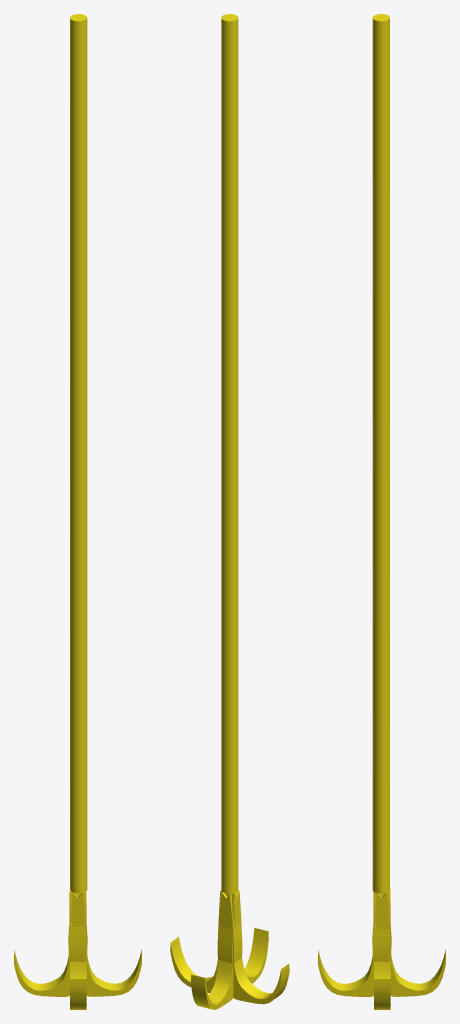
Rendered from hook.FBX.
The picture shows the model from 3 angles, left to right: view 1: azimuth 90°, elevation 25°; view 2: azimuth 150°, elevation 25°; view 3: azimuth 270°, elevation 25°; orthographic projection.
Visible parts, largest first — view 1: hook; view 2: hook; view 3: hook.
Part boxes in pixels (left/top/right/bottom): hook: left=14, top=14, right=141, bottom=1009; hook: left=170, top=14, right=289, bottom=1009; hook: left=318, top=14, right=445, bottom=1009.
Size of the model in its own units: 155 by 1302 by 155.
